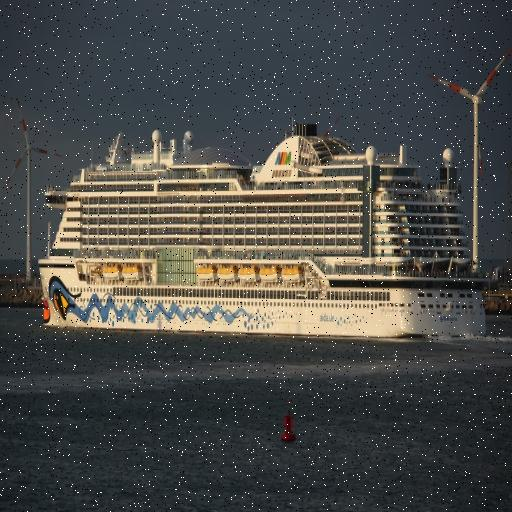cruises: (39, 122, 500, 346)
